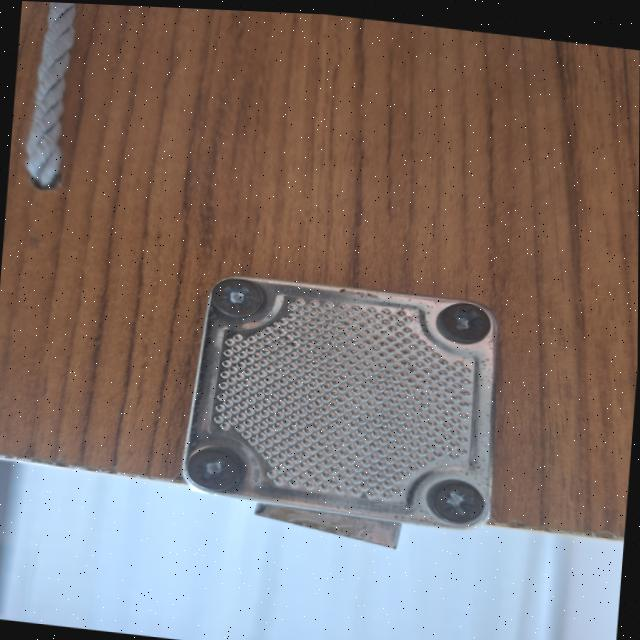Pozidriv: (176, 442, 238, 495), (431, 295, 496, 345), (424, 477, 489, 526), (209, 274, 267, 321)
